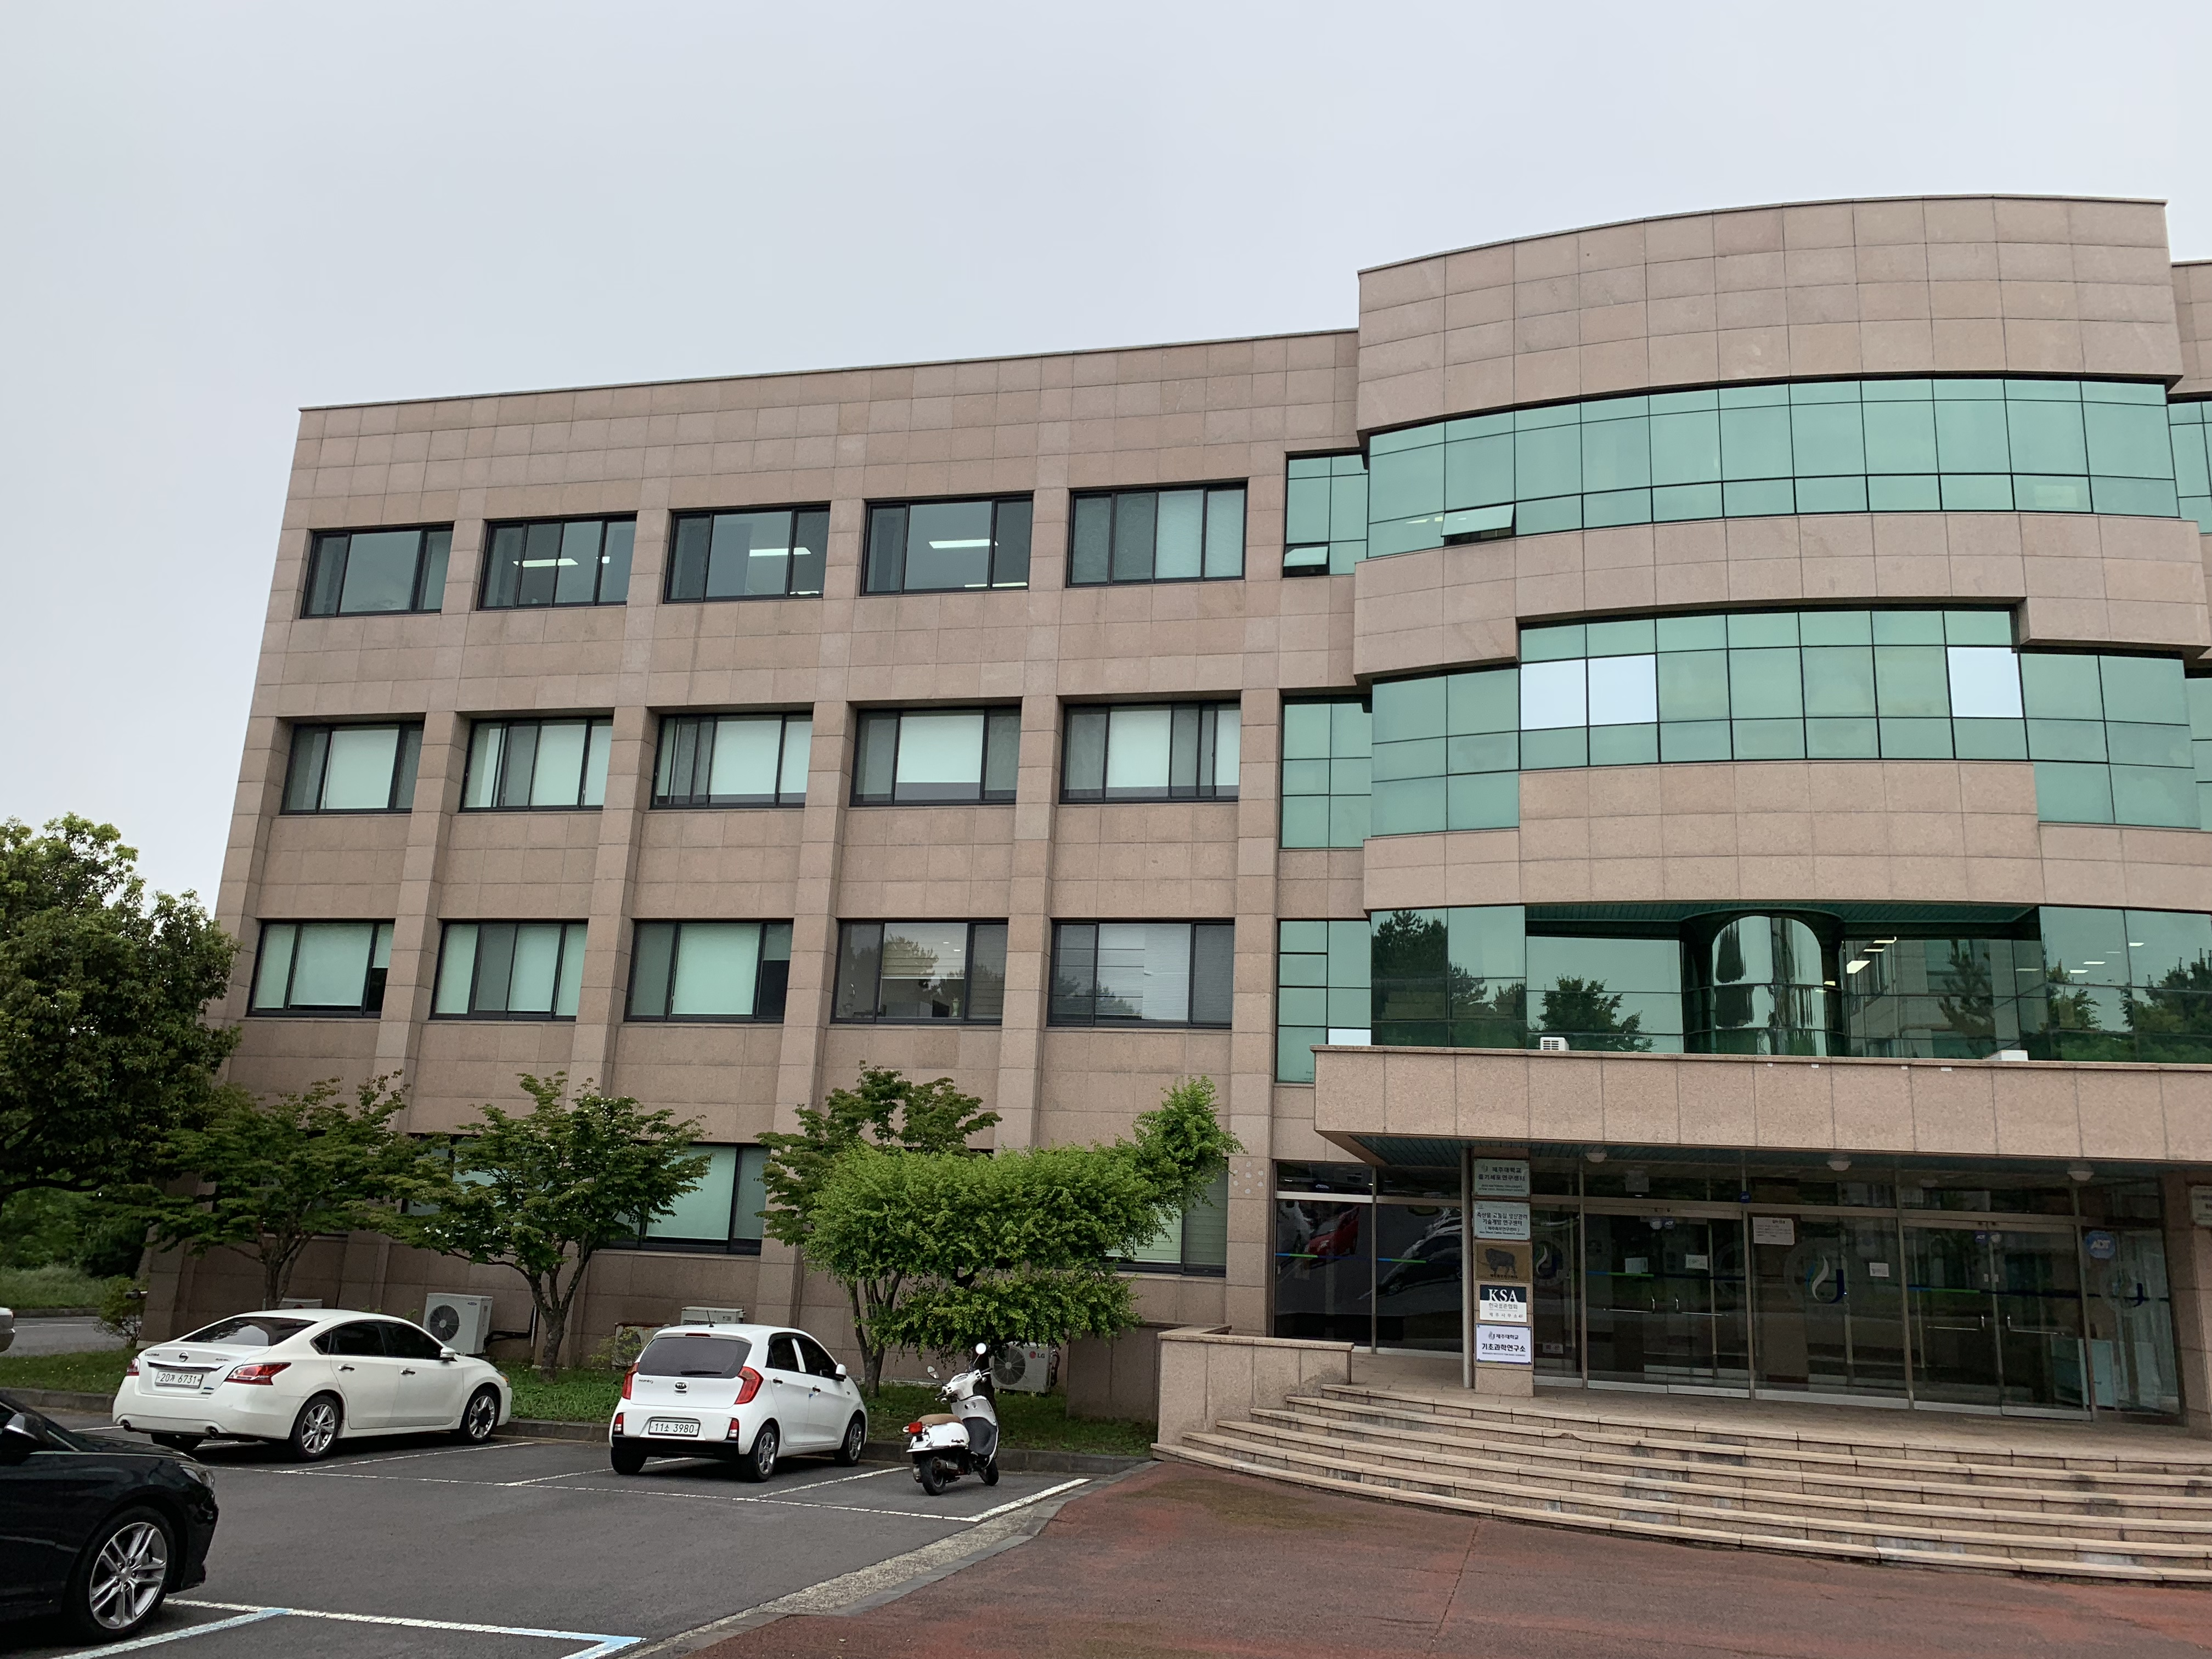Joint Experimental Labs: (301, 350, 2177, 1368)
